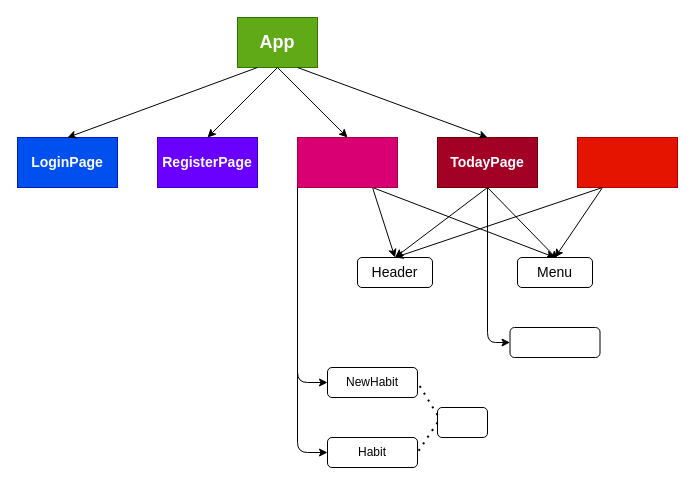
The diagram is 695 pixels wide and 485 high, and some of its shapes have lost their labels. The shapes that lost their labels are listed below. From the top down, each one's centre as x and y in pixels, then its label:
(x=347, y=162): HabitsPage
(x=627, y=162): HistoryPage
(x=554, y=342): TodayHabit
(x=462, y=422): Week
